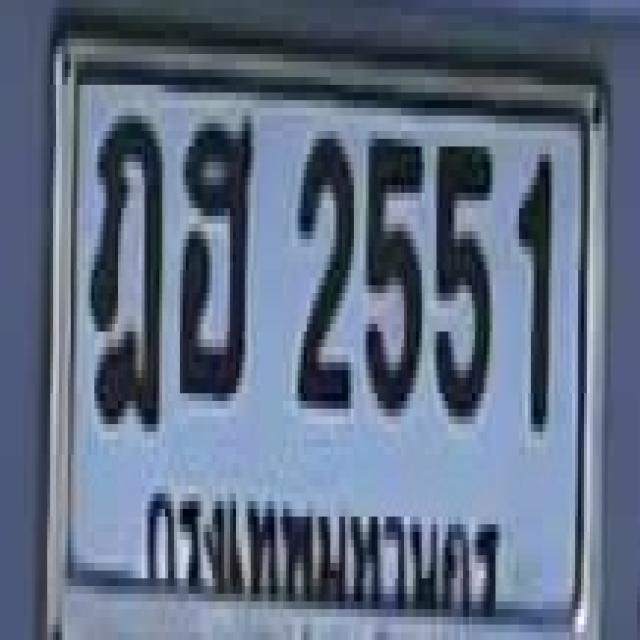1: (516, 147, 549, 424)
2: (295, 123, 351, 401)
5: (363, 127, 422, 405), (434, 135, 489, 412)
A14: (87, 104, 161, 420)
A44: (177, 112, 251, 389)
BKK: (138, 478, 507, 640)
